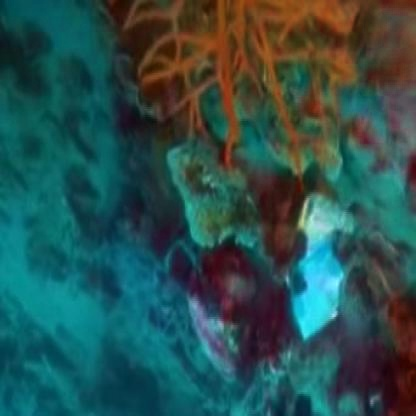plastic: (247, 168, 393, 349)
